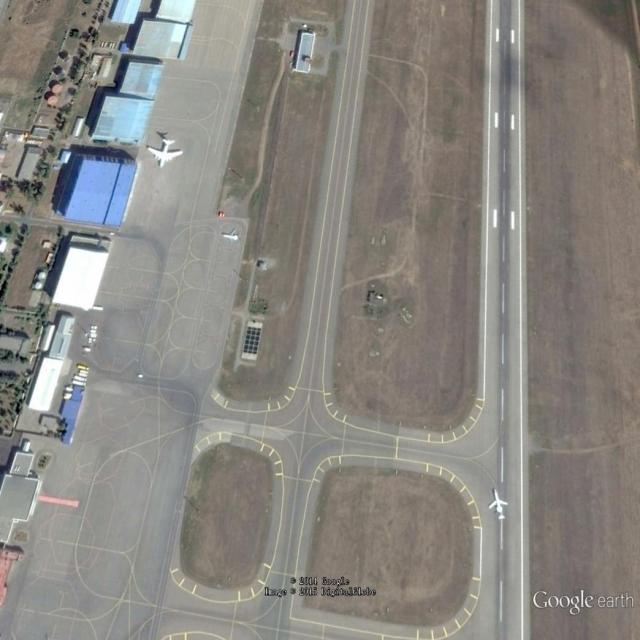aircraft: (145, 138, 186, 170), (487, 487, 511, 522), (220, 228, 241, 248)
